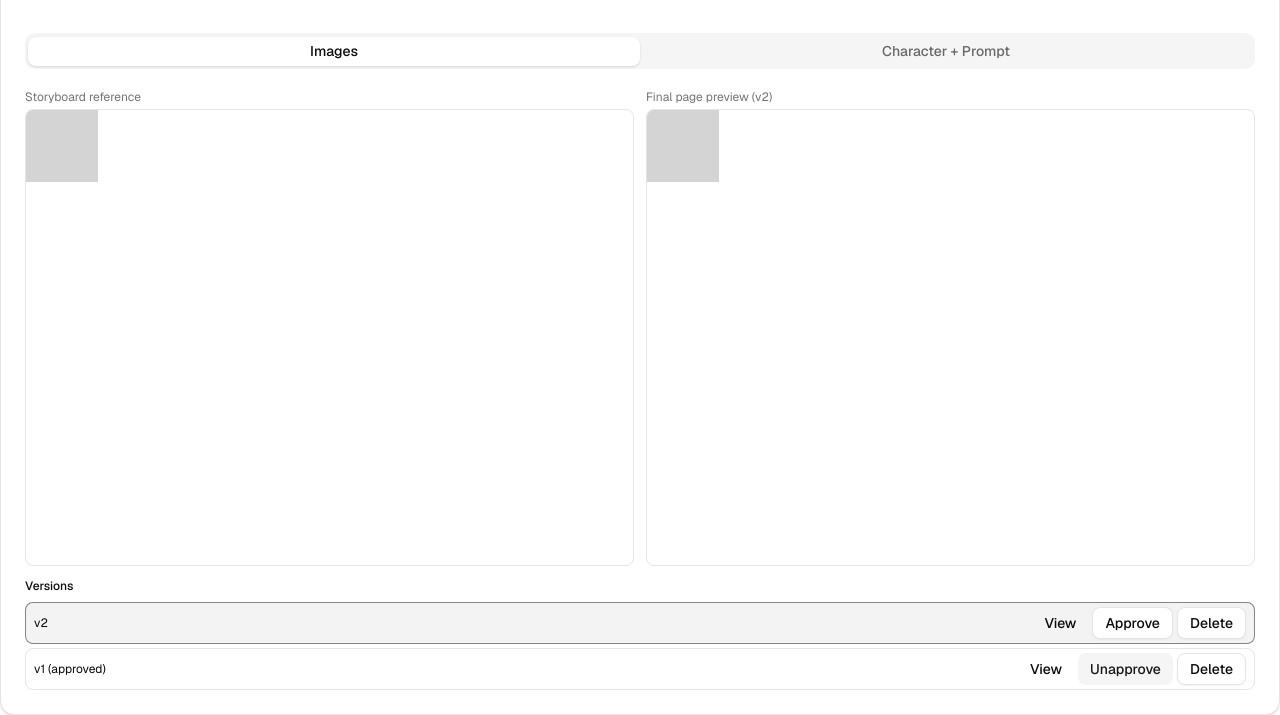
Scenario: FinalPageCard › switches preview image when selecting a version row
(page scrolled)
Expected: the text "Final page preview (v2)" is shown, [646,89,772,105]
Click the button "View" in the row of "(approved)".
click(1046, 669)  # box [1018,653,1074,685]
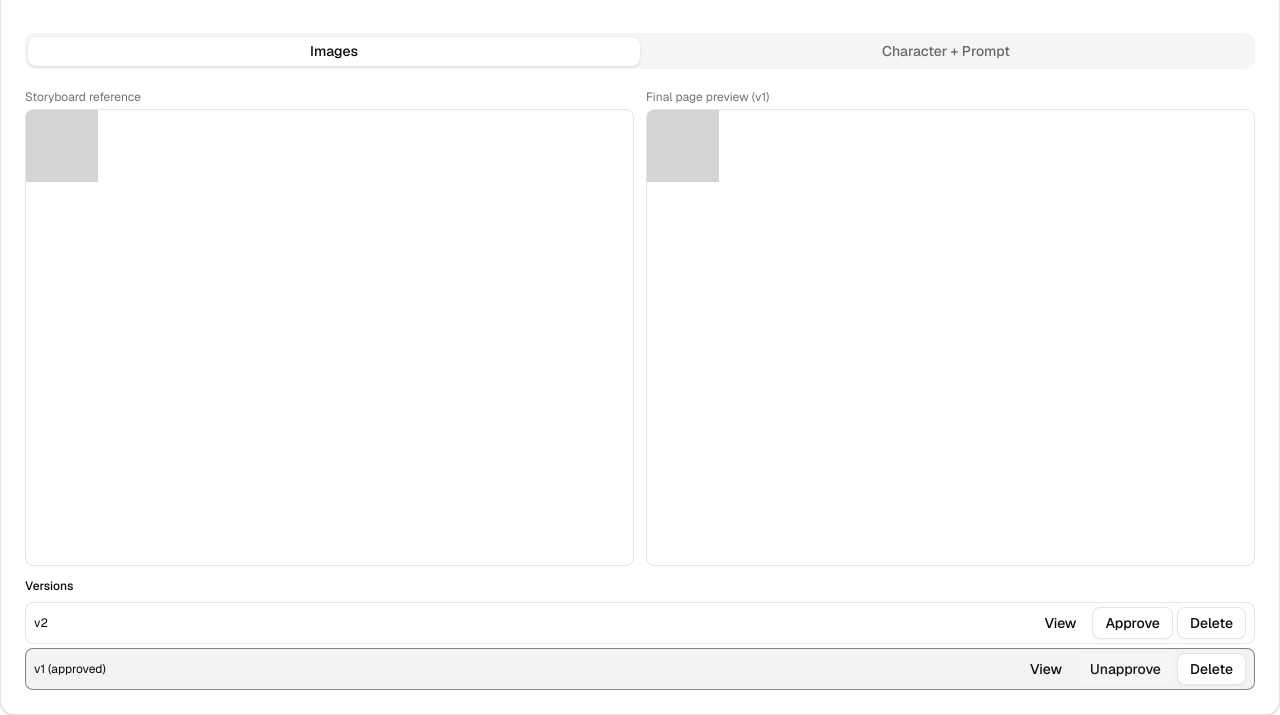
Expected: the text "Final page preview (v1)" is shown, [646,89,769,105]
